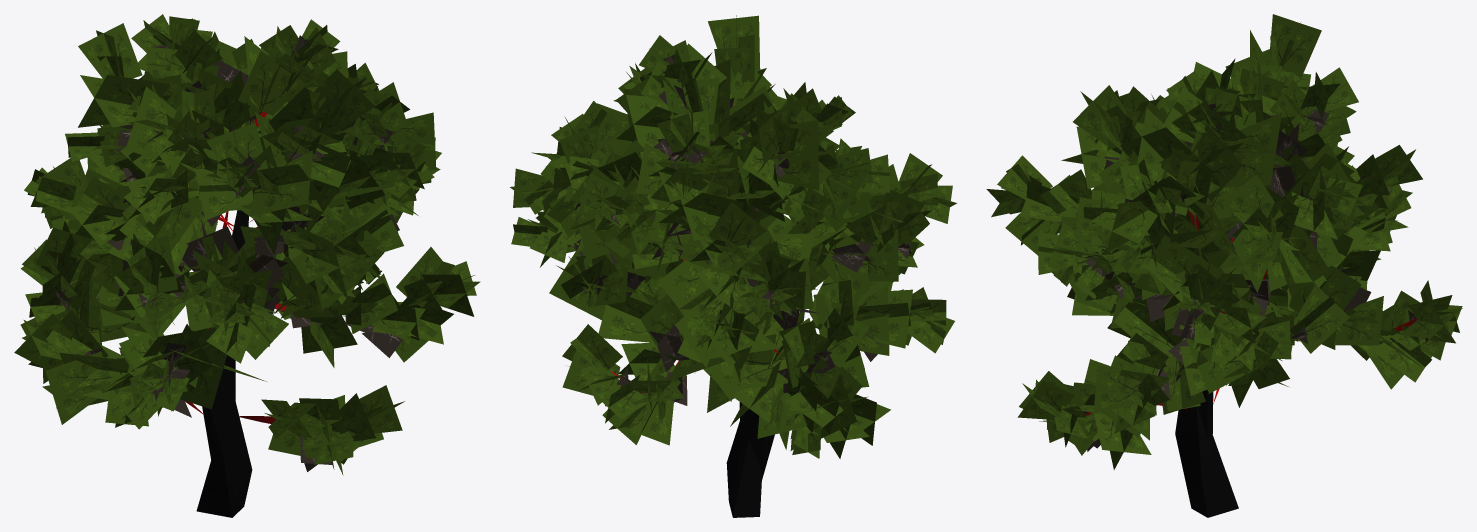
The model's file is oak2 lod1.FBX.
3 views of the same model, side by side, from view 1: azimuth 30°, elevation 25°; view 2: azimuth 150°, elevation 25°; view 3: azimuth 270°, elevation 25° (orthographic). The views are drawn at different scales.
Visible parts, largest first — view 1: oak2_LOD1; view 2: oak2_LOD1; view 3: oak2_LOD1.
Boxes of the visible parts, x1,y1,x2,y2 form: oak2_LOD1: (14,14,480,517); oak2_LOD1: (510,15,956,517); oak2_LOD1: (986,14,1462,517).
Bounding box in the file's own units: 105000 × 118777 × 112087.
